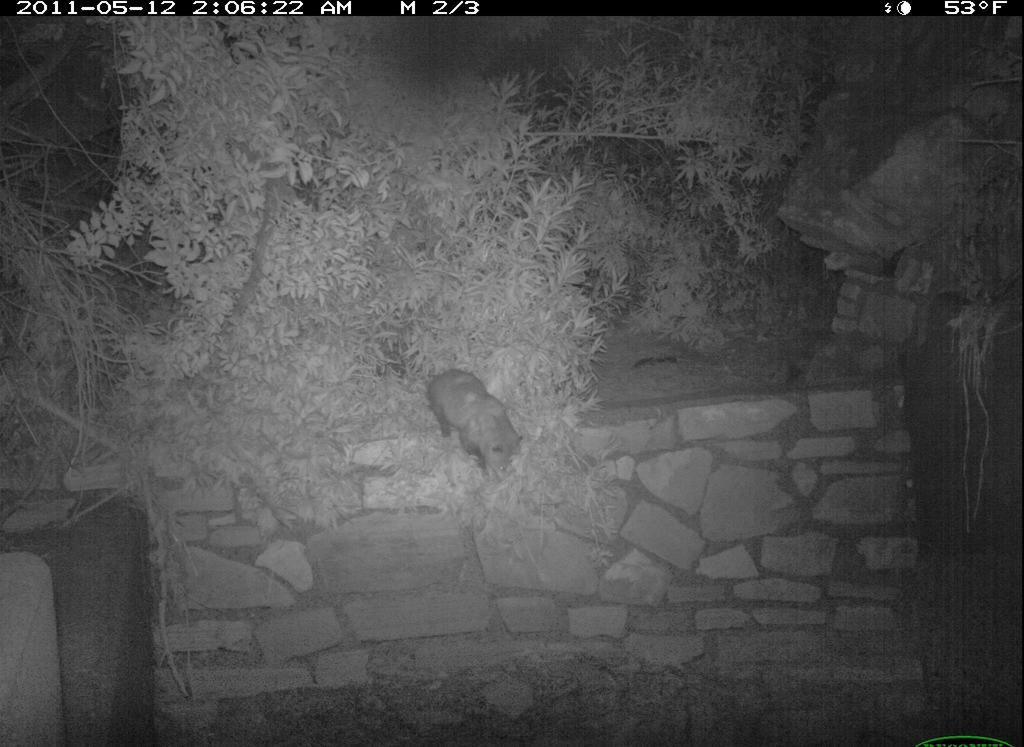opossum: (427, 368, 530, 486)
